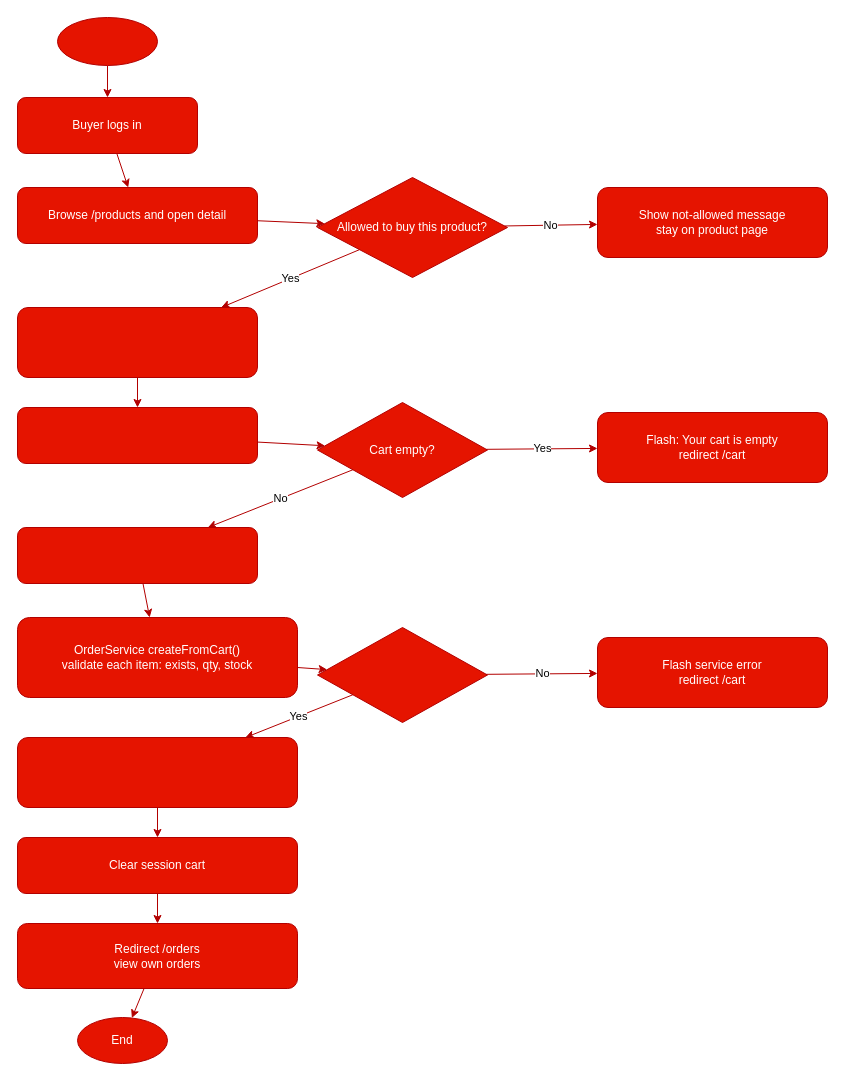
Image size: 845x1081. Some labels were removed from this diagram. The box of each missing label's shape, as (x1, y1, x2, y2) in pixels:
Create order + items, reduce stock, save: (16, 736, 298, 808)
Open /cart: (16, 406, 258, 464)
POST /cart/add/{productId} (quantity >= 1): (16, 306, 258, 378)
POST /cart/checkout: (16, 526, 258, 584)
Start: (56, 16, 158, 66)
Validation passed?: (316, 626, 488, 722)
